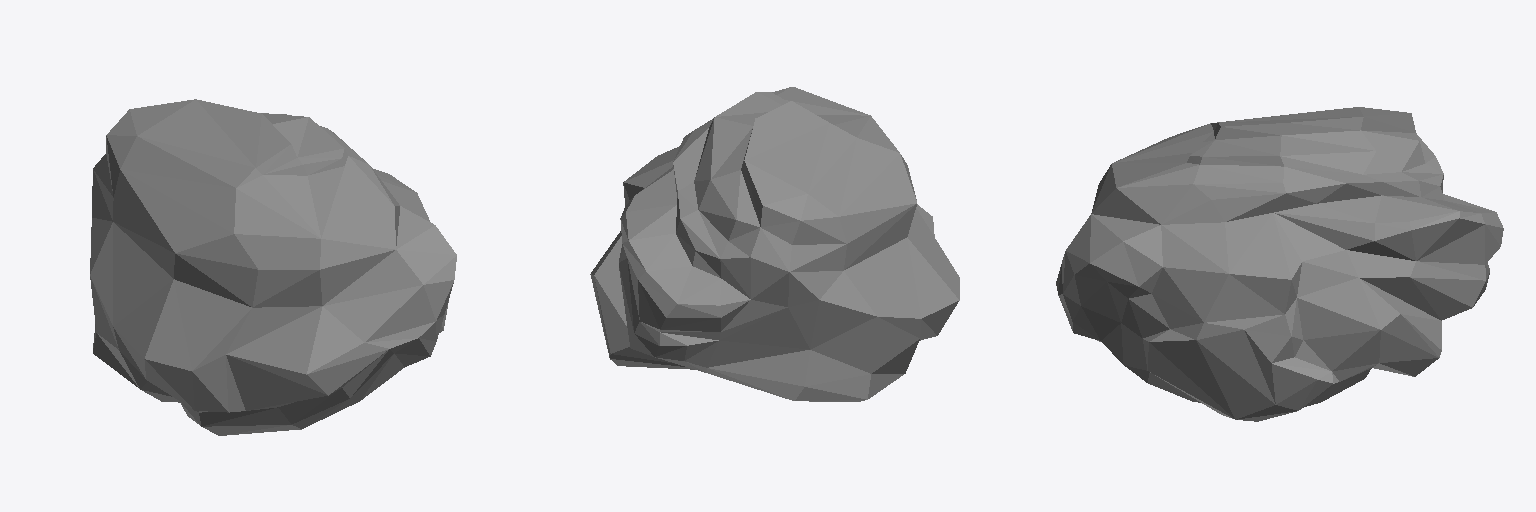
The model's file is rock_obj.obj.
The picture shows the model from 3 angles: view 1: azimuth 30°, elevation 25°; view 2: azimuth 150°, elevation 25°; view 3: azimuth 270°, elevation 25°; orthographic projection.
Parts seen in each view (by area): view 1: RockL01_1; view 2: RockL01_1; view 3: RockL01_1.
Part boxes in pixels (left/top/right/bottom): RockL01_1: left=90, top=99, right=456, bottom=435; RockL01_1: left=590, top=87, right=959, bottom=401; RockL01_1: left=1056, top=107, right=1503, bottom=421.
Size of the model in its own units: 333 by 289 by 426.